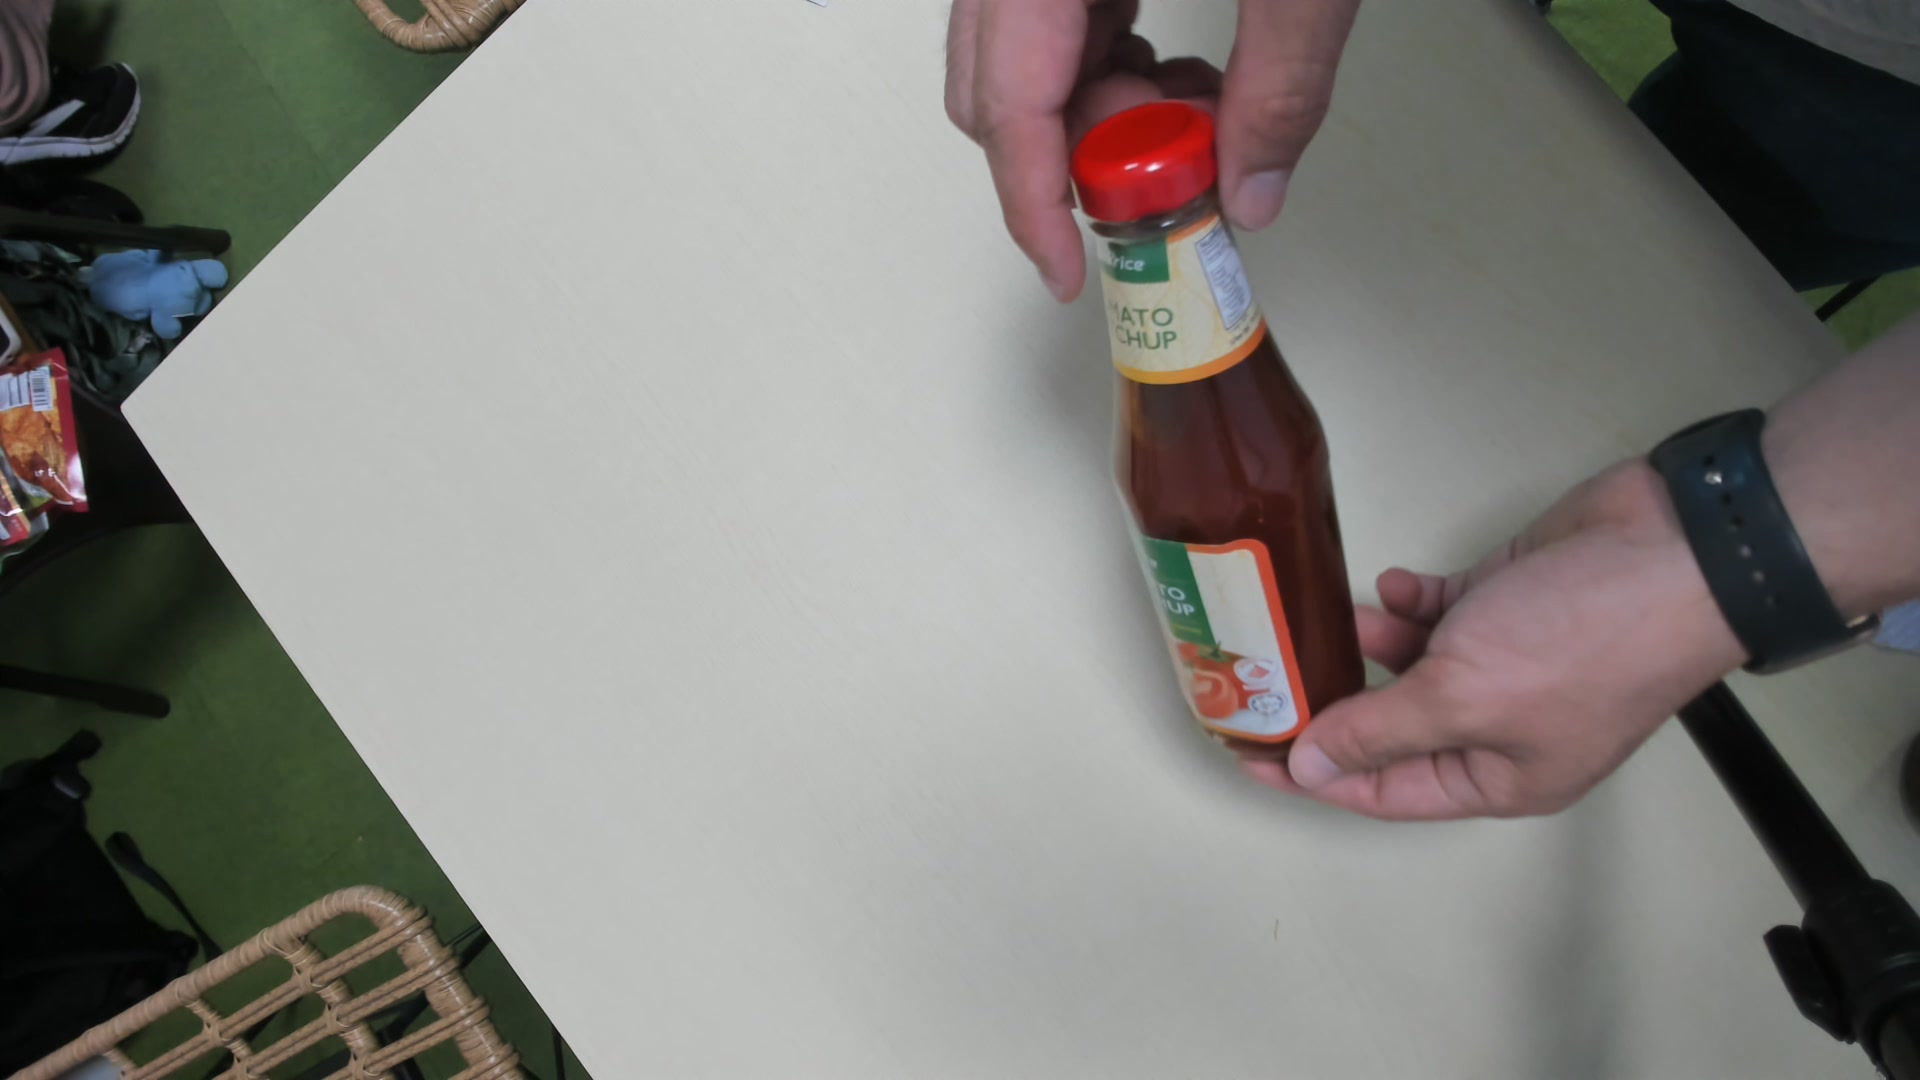KetchupChillSauce_300-399g_Halal_Healthy: (1067, 102, 1369, 766)
